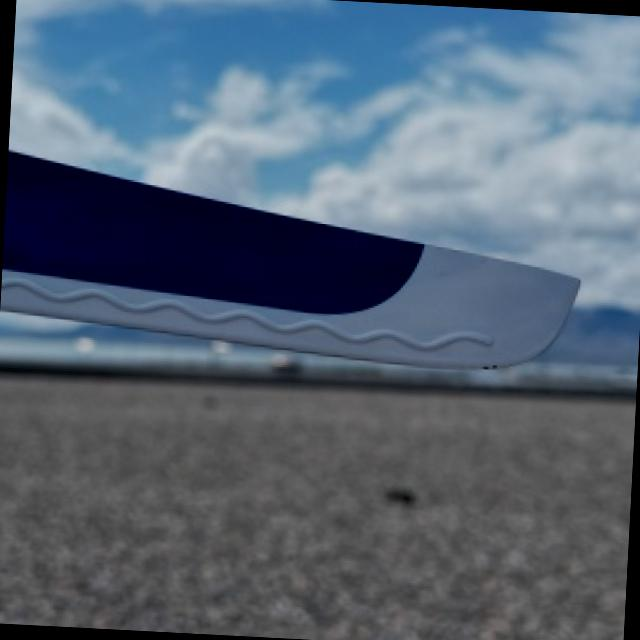healthy: (0, 150, 576, 366)
